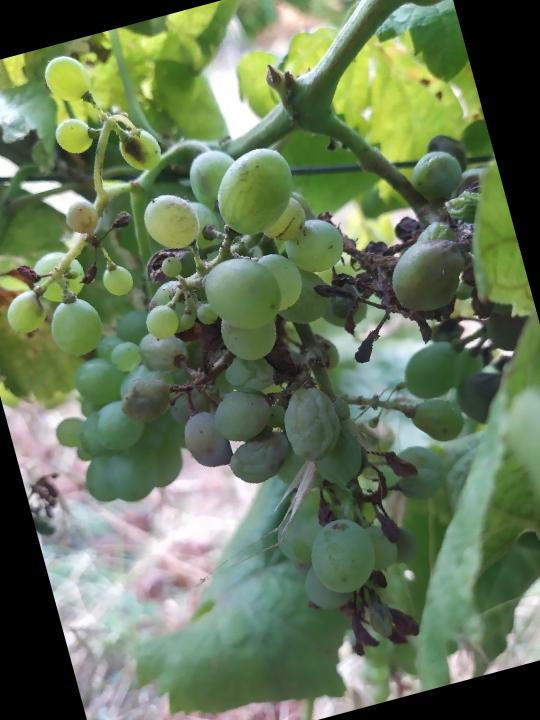grape: (58, 86, 540, 704)
